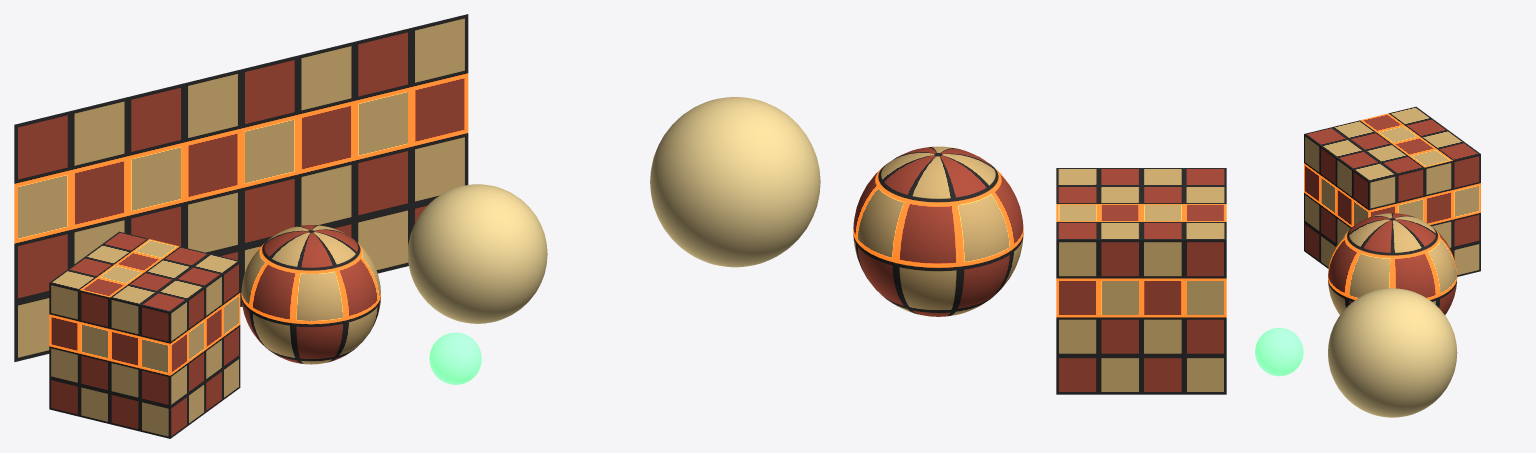
Rendered from pbr-maps.glb.
3 views of the same model, side by side, from view 1: azimuth 30°, elevation 25°; view 2: azimuth 150°, elevation 25°; view 3: azimuth 270°, elevation 25° (orthographic). The views are drawn at different scales.
Visible parts, largest first — view 1: Wall, Cube, Gold ball, Tiled ball, Glow ball; view 2: Cube, Gold ball, Tiled ball; view 3: Cube, Gold ball, Tiled ball, Glow ball.
Boxes of the visible parts, left/top/right/bottom form: Wall: left=14, top=14, right=468, bottom=361; Cube: left=49, top=231, right=240, bottom=438; Gold ball: left=408, top=184, right=547, bottom=323; Tiled ball: left=241, top=225, right=380, bottom=364; Glow ball: left=429, top=332, right=481, bottom=384; Cube: left=1056, top=168, right=1226, bottom=394; Gold ball: left=650, top=97, right=820, bottom=267; Tiled ball: left=853, top=146, right=1023, bottom=316; Cube: left=1304, top=106, right=1480, bottom=276; Gold ball: left=1328, top=288, right=1457, bottom=417; Tiled ball: left=1328, top=213, right=1457, bottom=314; Glow ball: left=1255, top=327, right=1303, bottom=376.
Size of the model in its own units: 6.29 by 3 by 3.3.
Materials: 3 (1 with a texture image).
